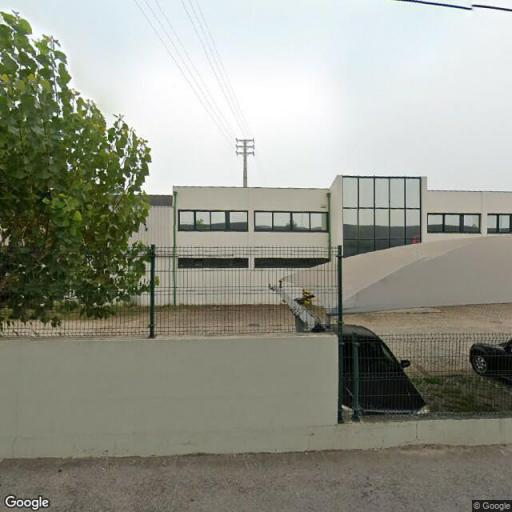mono_9: (236, 134, 255, 183)
